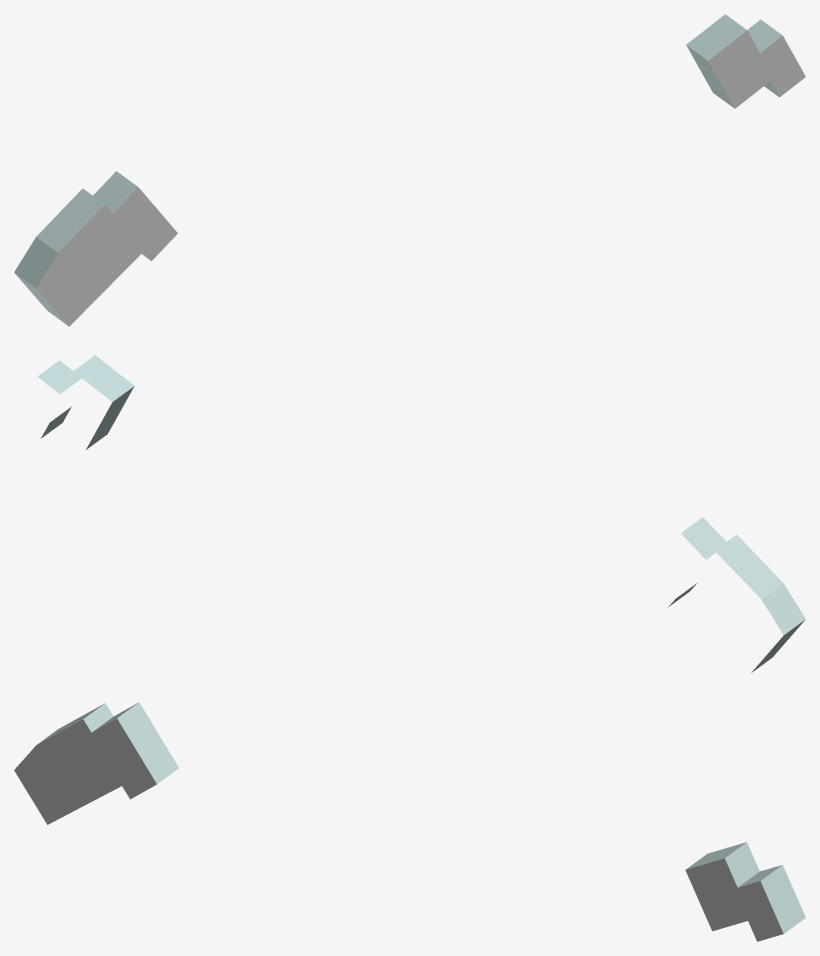
The picture shows the model from 3 angles, top to bottom: view 1: azimuth 30°, elevation 25°; view 2: azimuth 150°, elevation 25°; view 3: azimuth 330°, elevation 25°; orthographic projection.
Parts seen in each view (by area): view 1: 0_2_2_1_0_0_2_0; view 2: 0_2_2_1_0_0_2_0; view 3: 0_2_2_1_0_0_2_0.
Part boxes in pixels (bbox=[...]): 0_2_2_1_0_0_2_0: bbox=[14, 14, 805, 326]; 0_2_2_1_0_0_2_0: bbox=[37, 355, 805, 672]; 0_2_2_1_0_0_2_0: bbox=[14, 702, 805, 941].
Size of the model in its own units: 60.23 by 10.03 by 3.37.
